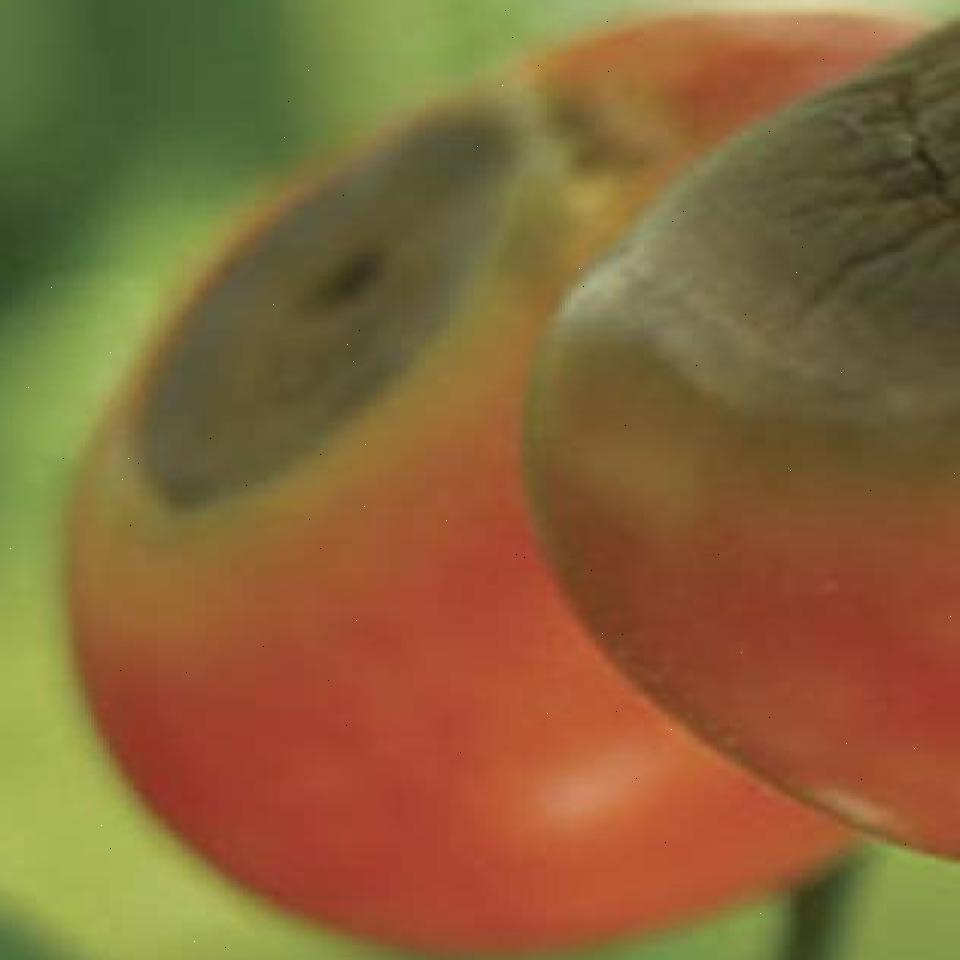Blossom_end_rot: (590, 15, 960, 492), (131, 84, 520, 536)
